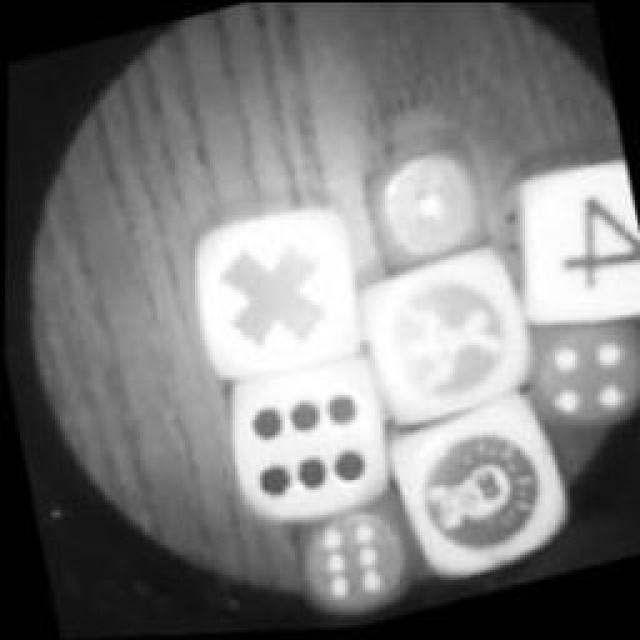dice_1: (349, 121, 506, 289)
dice_4: (504, 291, 638, 459)
dice_6: (208, 335, 418, 545), (281, 480, 434, 630)
